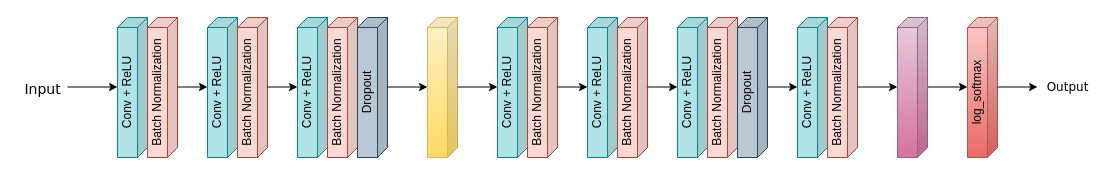
Some shapes in this 1114 by 175 pixel diagram are drawn without their labels. Here are the shapes that lost their labels. From the top down, the centre of each, then its label:
point (442, 87): Max pooling
point (912, 87): Average Pooling
